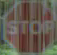Stop: (6, 2, 53, 54)
